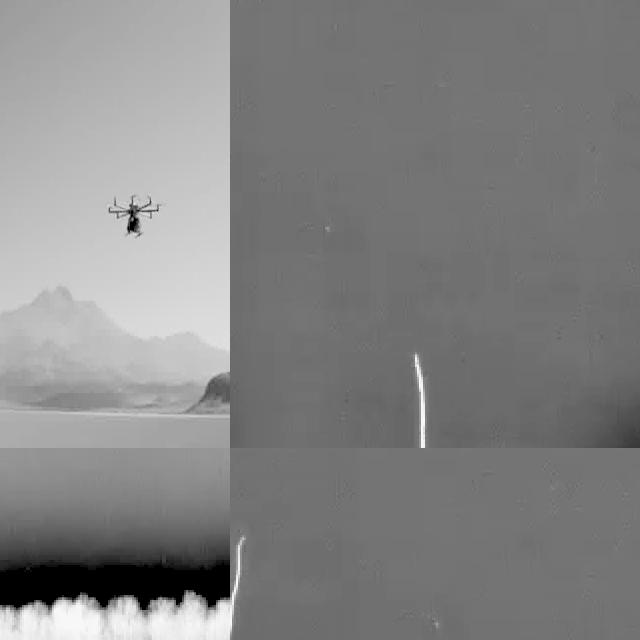0: (317, 217, 343, 245), (429, 614, 451, 640)
drone: (109, 185, 163, 242)
